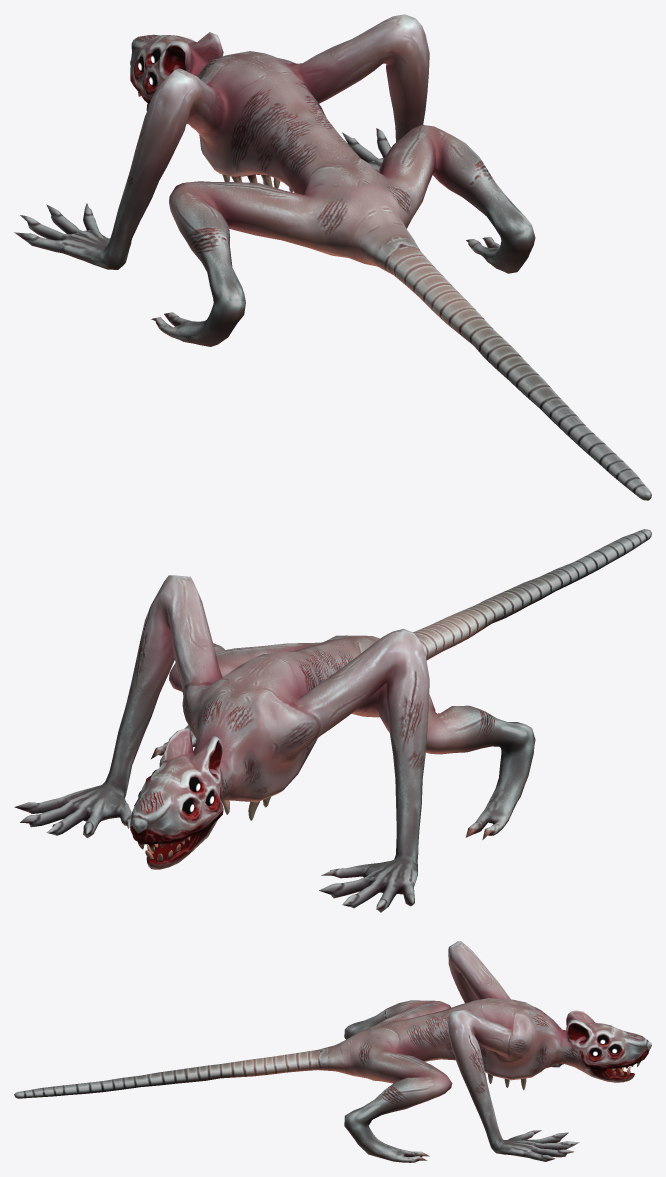
The model's file is Rat_Der_Hunger.fbx.
The picture shows the model from 3 angles, top to bottom: view 1: azimuth 30°, elevation 25°; view 2: azimuth 150°, elevation 25°; view 3: azimuth 270°, elevation 25°; orthographic projection. The views are drawn at different scales.
Visible parts, largest first — view 1: rat_nosferatu:L_Eye_Middle1; view 2: rat_nosferatu:L_Eye_Middle1; view 3: rat_nosferatu:L_Eye_Middle1.
Boxes of the visible parts, x1,y1,x2,y2 form: rat_nosferatu:L_Eye_Middle1: [14, 14, 651, 500]; rat_nosferatu:L_Eye_Middle1: [14, 529, 651, 912]; rat_nosferatu:L_Eye_Middle1: [14, 941, 651, 1162].
Size of the model in its own units: 4.01 by 2.12 by 8.93.
Materials: 1 (1 with a texture image).
